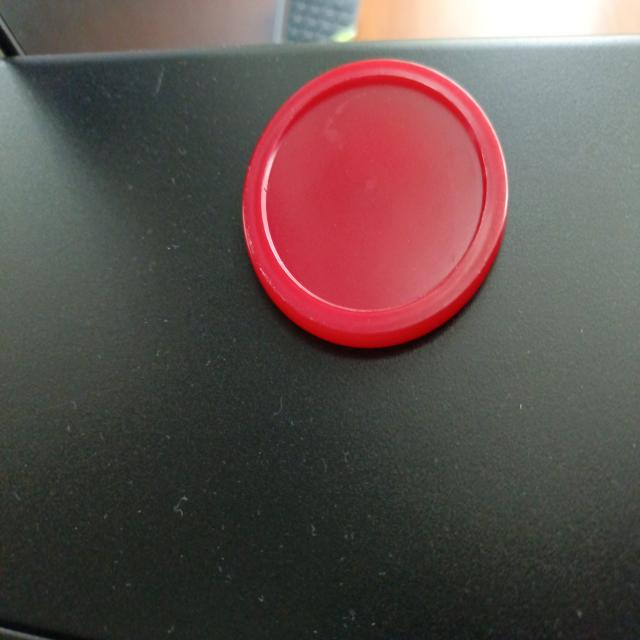chip: (241, 54, 508, 350)
